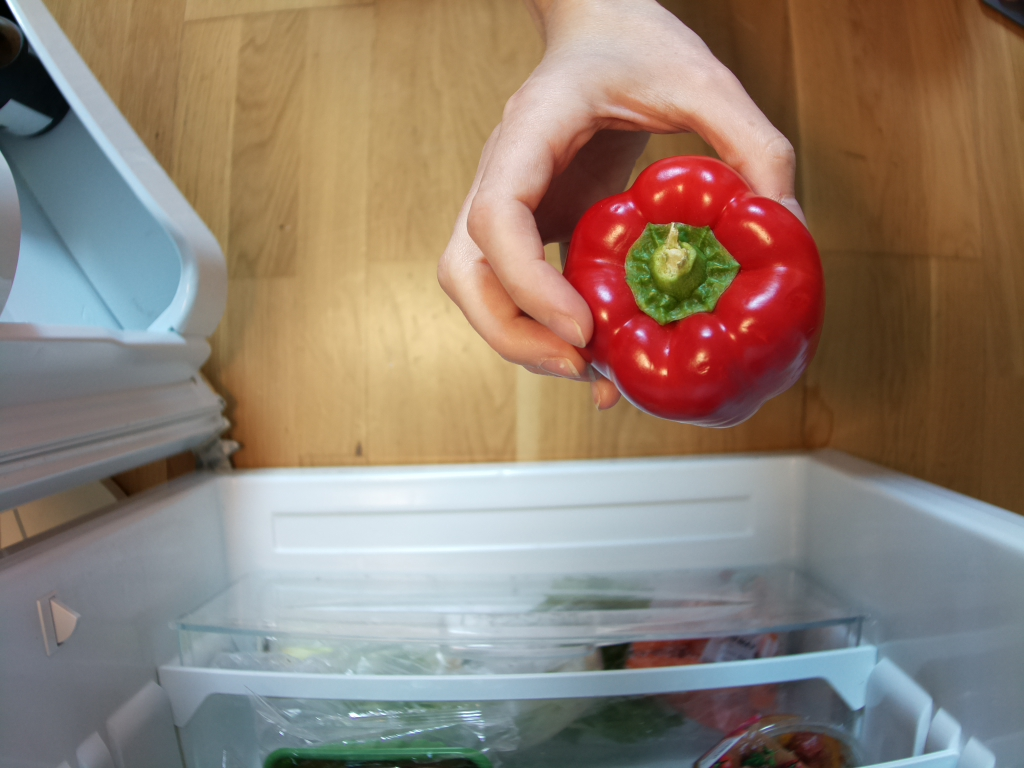pepper: (561, 154, 827, 431)
